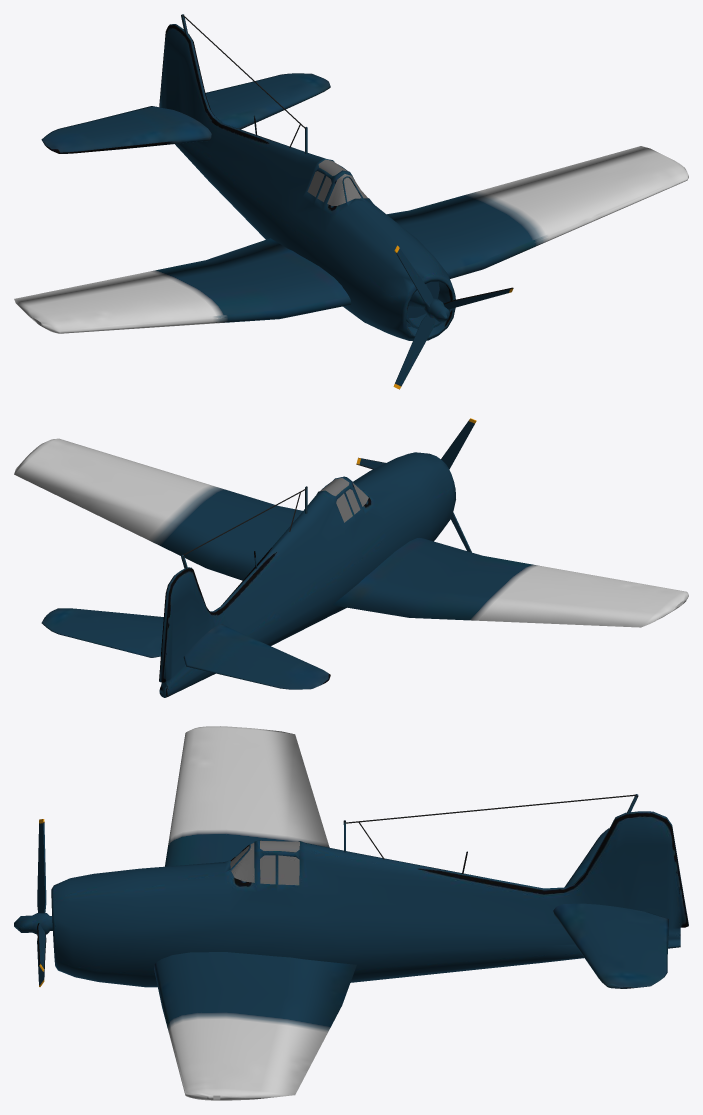
Rendered from realistic-by.8b3ffbd28d38.fighter.glb.
The picture shows the model from 3 angles, top to bottom: view 1: azimuth 30°, elevation 25°; view 2: azimuth 150°, elevation 25°; view 3: azimuth 270°, elevation 25°; orthographic projection. The views are drawn at different scales.
Bounding box in the file's own units: 13.22 × 3.56 × 10.2.
2 materials, 2 textured.
